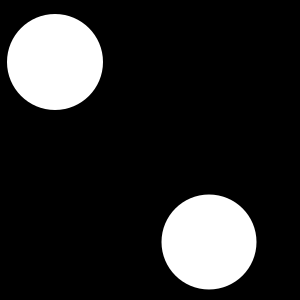rectangle: (7, 14, 103, 110), (162, 194, 256, 290)
